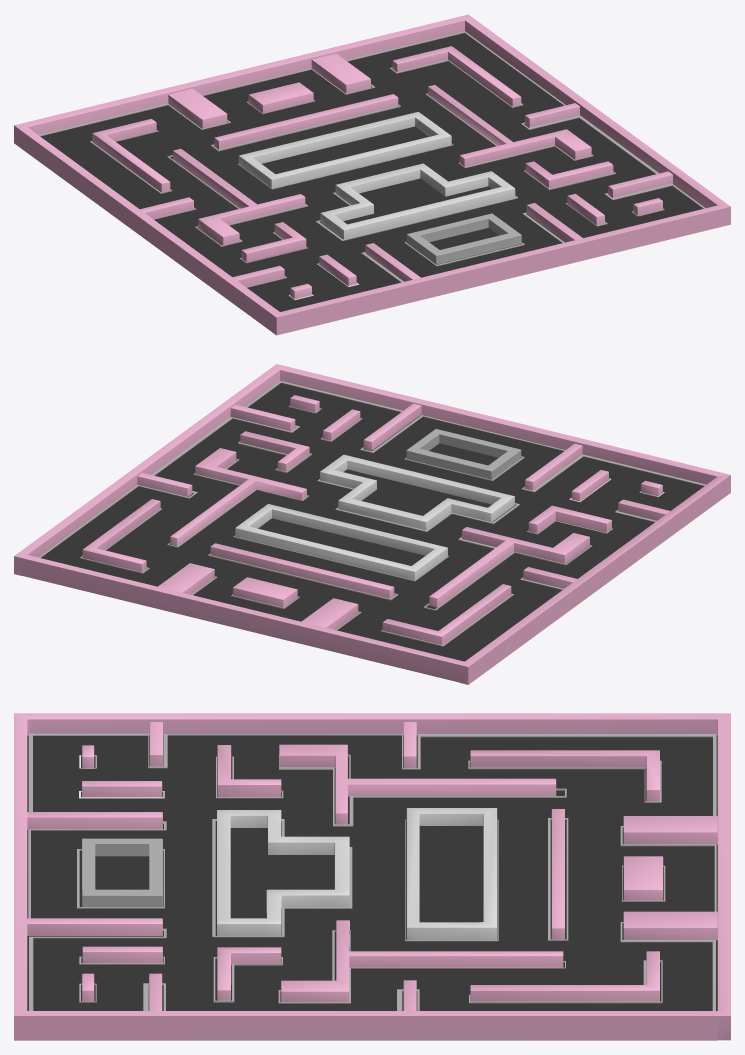
File: ron_map_1_no_uv_edit (1).fbx
3 views of the same model, one above another, from view 1: azimuth 30°, elevation 25°; view 2: azimuth 150°, elevation 25°; view 3: azimuth 270°, elevation 25° (orthographic). The views are drawn at different scales.
Parts seen in each view (by area): view 1: Box022, Box021, Box024, Box023, Box016, Box015, Cube__2_, Cube__7_, Box009, Box018, Box017, Box019 (+13 smaller); view 2: Box022, Box021, Box024, Box023, Box016, Box015, Cube__2_, Cube__7_, Box009, Box018, Box017, Box014 (+14 smaller); view 3: Box022, Box021, Box024, Cube__7_, Box016, Box023, Box015, Box018, Cube__2_, Box017, Box019, Box020 (+18 smaller).
Part boxes in pixels (<box>): Box022: <box>40,33,702,311</box>; Box021: <box>14,14,730,335</box>; Box024: <box>320,163,515,238</box>; Box023: <box>238,112,451,188</box>; Box016: <box>173,148,305,245</box>; Box015: <box>428,85,591,166</box>; Cube__2_: <box>406,213,521,264</box>; Cube__7_: <box>38,31,705,287</box>; Box009: <box>214,94,398,149</box>; Box018: <box>92,119,170,192</box>; Box017: <box>392,46,521,106</box>; Box019: <box>311,53,370,93</box>; Box022: <box>41,383,703,661</box>; Box021: <box>14,364,730,684</box>; Box024: <box>320,454,514,530</box>; Box023: <box>235,504,447,580</box>; Box016: <box>429,527,589,607</box>; Box015: <box>170,448,306,546</box>; Cube__2_: <box>406,429,521,479</box>; Cube__7_: <box>38,381,705,630</box>; Box009: <box>210,543,394,598</box>; Box018: <box>382,584,511,645</box>; Box017: <box>82,499,160,572</box>; Box014: <box>233,577,297,607</box>; Box022: <box>27,735,717,1010</box>; Box021: <box>14,713,730,1040</box>; Box024: <box>217,810,349,935</box>; Cube__7_: <box>28,733,716,1010</box>; Box016: <box>279,744,556,824</box>; Box023: <box>406,808,497,939</box>; Box015: <box>281,920,563,1002</box>; Box018: <box>470,750,659,801</box>; Cube__2_: <box>82,838,162,906</box>; Box017: <box>470,951,659,1001</box>; Box019: <box>623,911,717,940</box>; Box020: <box>623,816,717,844</box>.
Size of the model in its own units: 5301 by 200 by 5305.
